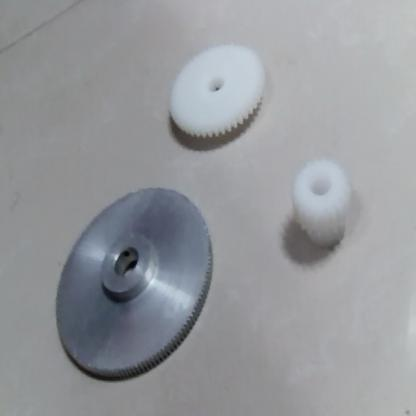FOD: (48, 183, 214, 392), (162, 44, 268, 148), (282, 162, 360, 254)
